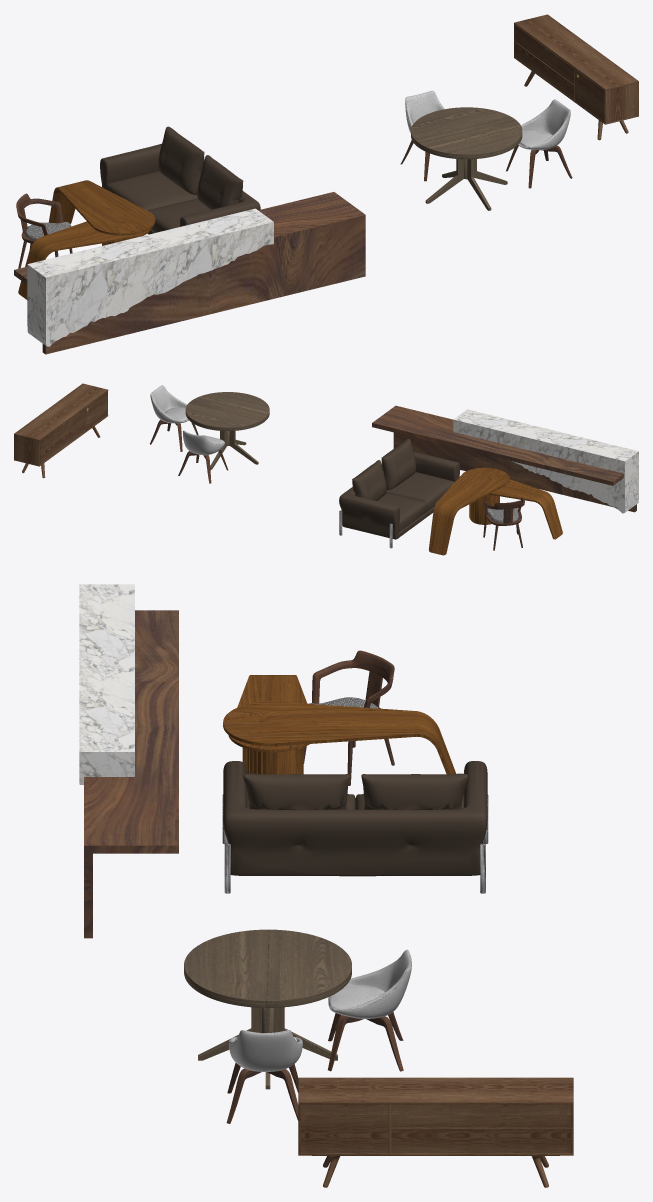
Rendered from wood_L4.glb.
3 renders of one model, top to bottom at view 1: azimuth 30°, elevation 25°; view 2: azimuth 150°, elevation 25°; view 3: azimuth 270°, elevation 25°, orthographic. The views are drawn at different scales.
Parts seen in each view (by area): view 1: _l4_shelf.001, _l4_sofa, _l4_cabinet, _l4_table.001, _l4_table, _l4_chair.001, _l4_chair.002, _l4_chair; view 2: _l4_shelf.001, _l4_sofa, _l4_table, _l4_cabinet, _l4_table.001, _l4_chair.001, _l4_chair.002, _l4_chair; view 3: _l4_sofa, _l4_shelf.001, _l4_cabinet, _l4_table.001, _l4_table, _l4_chair, _l4_chair.001, _l4_chair.002.
Part boxes in pixels (x1,y1,x2,y2): _l4_shelf.001: (14,192,365,354); _l4_sofa: (100,126,260,234); _l4_cabinet: (514,14,638,140); _l4_table.001: (411,107,522,210); _l4_table: (18,180,155,299); _l4_chair.001: (506,99,572,188); _l4_chair.002: (16,193,72,268); _l4_chair: (400,90,444,181); _l4_shelf.001: (372,405,638,513); _l4_sofa: (339,438,460,548); _l4_table: (428,467,562,555); _l4_cabinet: (14,383,108,478); _l4_table.001: (185,392,269,469); _l4_chair.001: (150,385,198,451); _l4_chair.002: (483,497,524,550); _l4_chair: (178,430,228,483); _l4_sofa: (222,761,488,893); _l4_shelf.001: (79,584,178,938); _l4_cabinet: (298,1077,573,1187); _l4_table.001: (184,929,351,1089); _l4_table: (223,675,456,794); _l4_chair: (328,949,411,1071); _l4_chair.001: (226,1030,302,1123); _l4_chair.002: (303,650,394,785).
Bounding box in the file's own units: 10.65 × 1.22 × 4.55.
13 materials, 11 textured.
